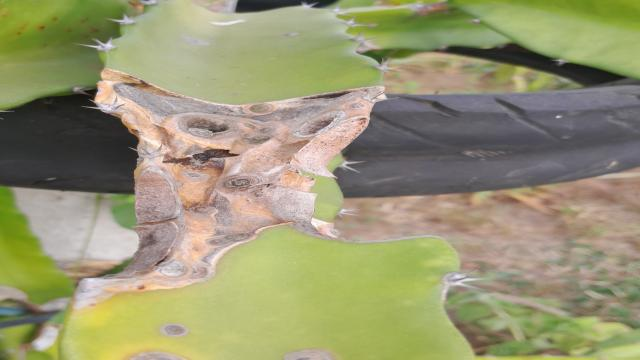stemcanker: (280, 346, 330, 360), (158, 322, 189, 340)
